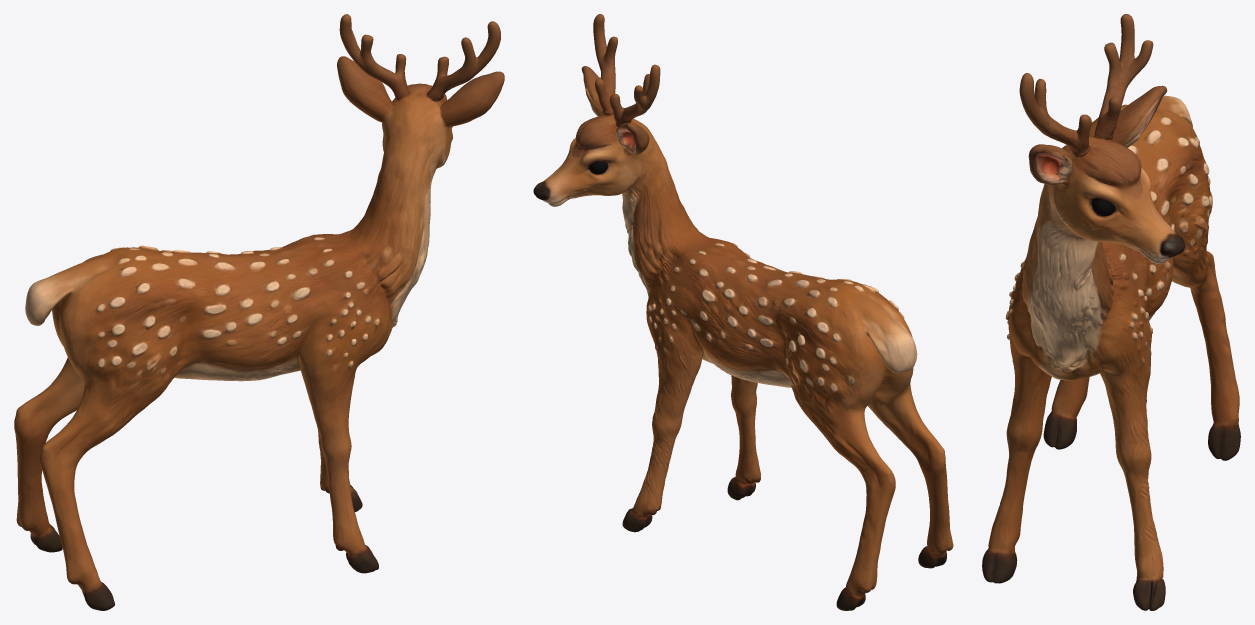
3 views of the same model, side by side, from view 1: azimuth 30°, elevation 25°; view 2: azimuth 150°, elevation 25°; view 3: azimuth 270°, elevation 25° (orthographic). The views are drawn at different scales.
Visible parts, largest first — view 1: tripo_node_1b53b016-ebe4-4040-b973-4f51670c71e6; view 2: tripo_node_1b53b016-ebe4-4040-b973-4f51670c71e6; view 3: tripo_node_1b53b016-ebe4-4040-b973-4f51670c71e6.
Part boxes in pixels (<box>): tripo_node_1b53b016-ebe4-4040-b973-4f51670c71e6: <box>14,14,504,610</box>; tripo_node_1b53b016-ebe4-4040-b973-4f51670c71e6: <box>533,14,953,610</box>; tripo_node_1b53b016-ebe4-4040-b973-4f51670c71e6: <box>982,14,1240,610</box>.
Bounding box in the file's own units: 0.8743 × 0.9791 × 0.3927.
1 material, 1 textured.
